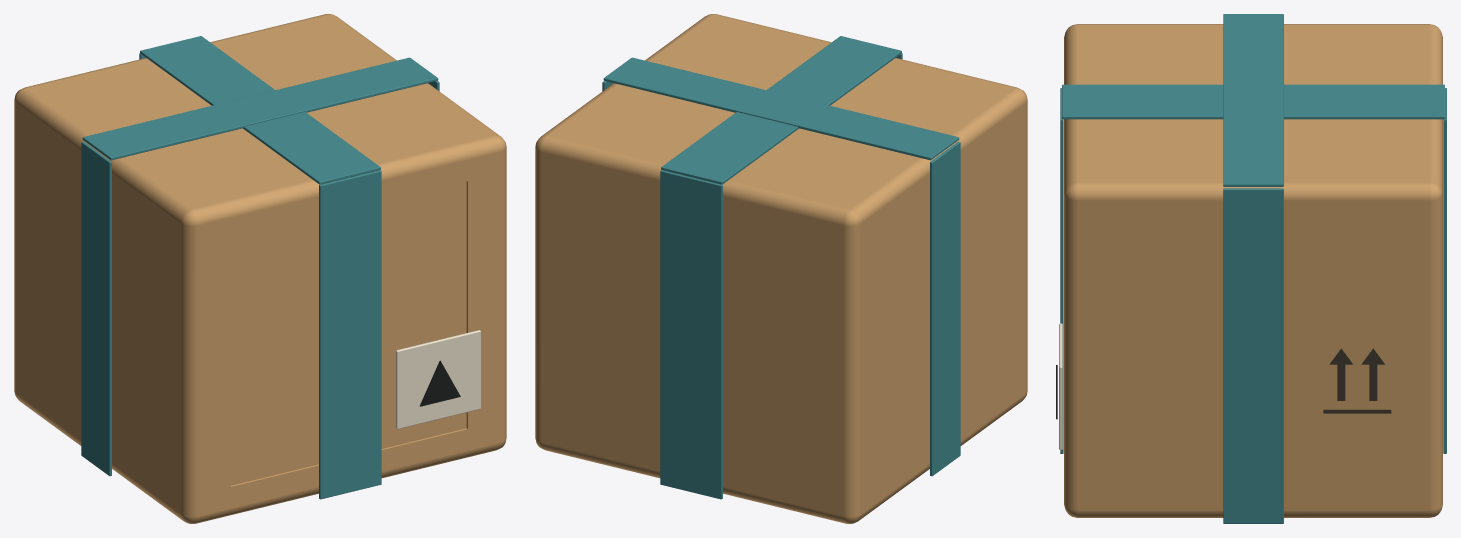
Rendered from play-parcel-large-teal.glb.
3 renders of one model, left to right at view 1: azimuth 30°, elevation 25°; view 2: azimuth 150°, elevation 25°; view 3: azimuth 270°, elevation 25°, orthographic. The views are drawn at different scales.
Parts seen in each view (by area): view 1: Parcel_Carton, Parcel_Tape_Front_Back_0095, Parcel_Tape_Top_Cross, Parcel_Tape_Sides_-01, Parcel_Tape_Top_Length, Parcel_Paper_Label, Parcel_Label_Triangle; view 2: Parcel_Carton, Parcel_Tape_Front_Back_-0095, Parcel_Tape_Top_Cross, Parcel_Tape_Sides_-01, Parcel_Tape_Top_Length; view 3: Parcel_Carton, Parcel_Tape_Sides_01, Parcel_Tape_Top_Length, Parcel_Tape_Top_Cross, Parcel_Up_Arrows_Positive_X, Parcel_Tape_Front_Back_-0095, Parcel_Tape_Front_Back_0095, Parcel_Paper_Label.
Boxes of the visible parts, x1,y1,x2,y2 form: Parcel_Carton: (14,14,506,523); Parcel_Tape_Front_Back_0095: (319,170,381,499); Parcel_Tape_Top_Cross: (82,57,438,160); Parcel_Tape_Sides_-01: (81,141,111,476); Parcel_Tape_Top_Length: (140,36,380,184); Parcel_Paper_Label: (395,330,480,429); Parcel_Label_Triangle: (420,360,460,406); Parcel_Carton: (535,14,1027,523); Parcel_Tape_Front_Back_-0095: (660,170,722,499); Parcel_Tape_Top_Cross: (603,57,959,160); Parcel_Tape_Sides_-01: (930,141,960,476); Parcel_Tape_Top_Length: (661,36,901,184); Parcel_Carton: (1064,24,1442,517); Parcel_Tape_Sides_01: (1223,188,1283,523); Parcel_Tape_Top_Length: (1062,84,1444,119); Parcel_Tape_Top_Cross: (1223,14,1283,186); Parcel_Up_Arrows_Positive_X: (1323,348,1391,413); Parcel_Tape_Front_Back_-0095: (1443,88,1446,453); Parcel_Tape_Front_Back_0095: (1060,88,1063,453); Parcel_Paper_Label: (1059,323,1062,450).
Size of the model in its own units: 0.2037 by 0.1877 by 0.1957.
